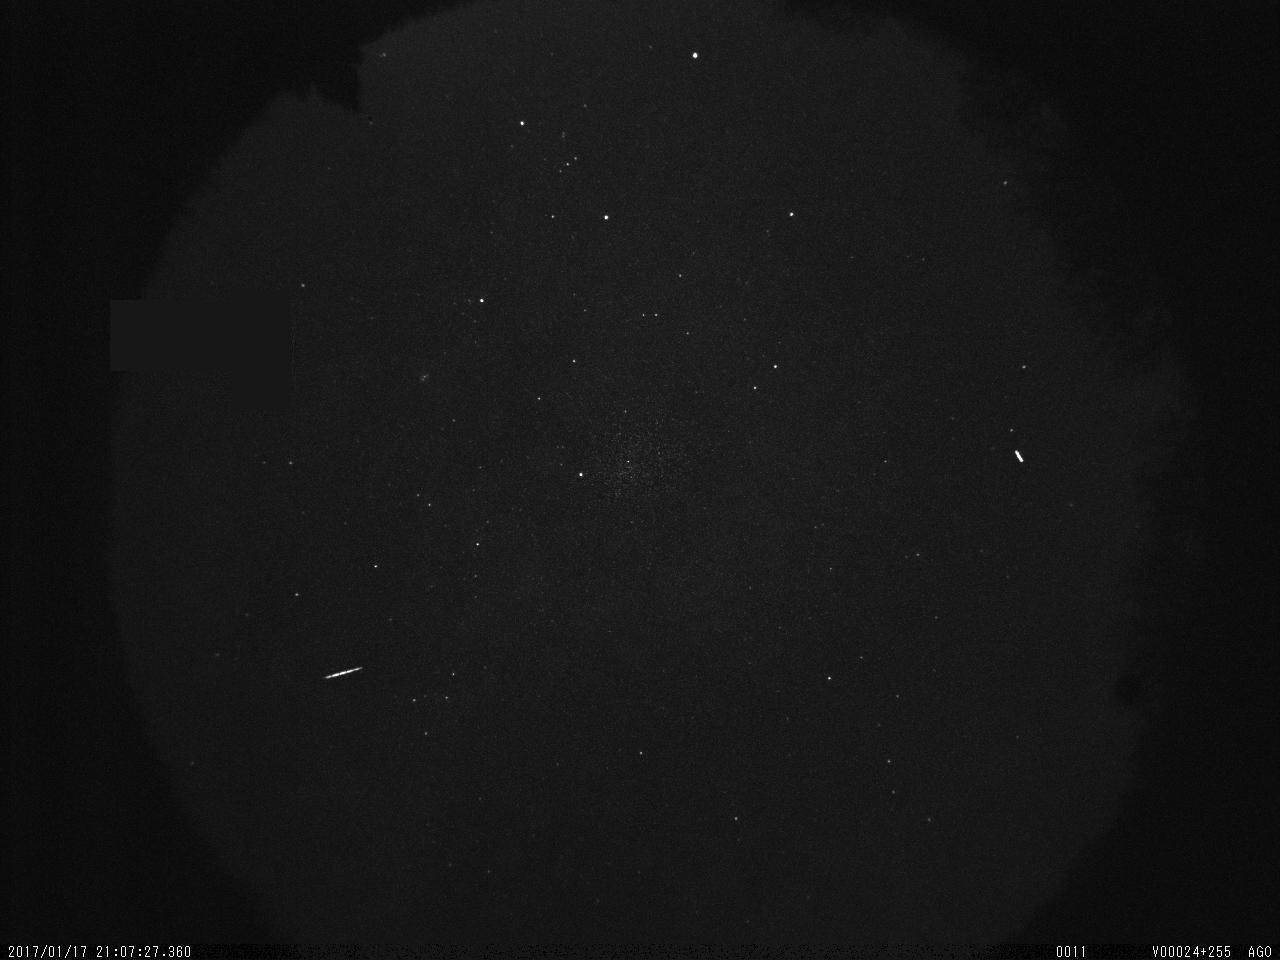meteor: (321, 660, 371, 684), (1012, 446, 1029, 469)
